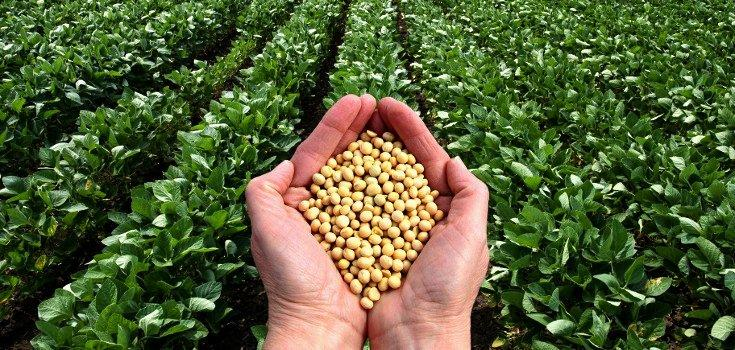soy beans: (297, 128, 444, 310)
